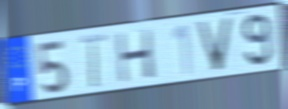1: (173, 23, 193, 76)
5: (35, 37, 71, 95)
9: (241, 12, 273, 68)
H: (114, 27, 157, 85)
T: (78, 31, 109, 91)
V: (194, 16, 236, 73)
